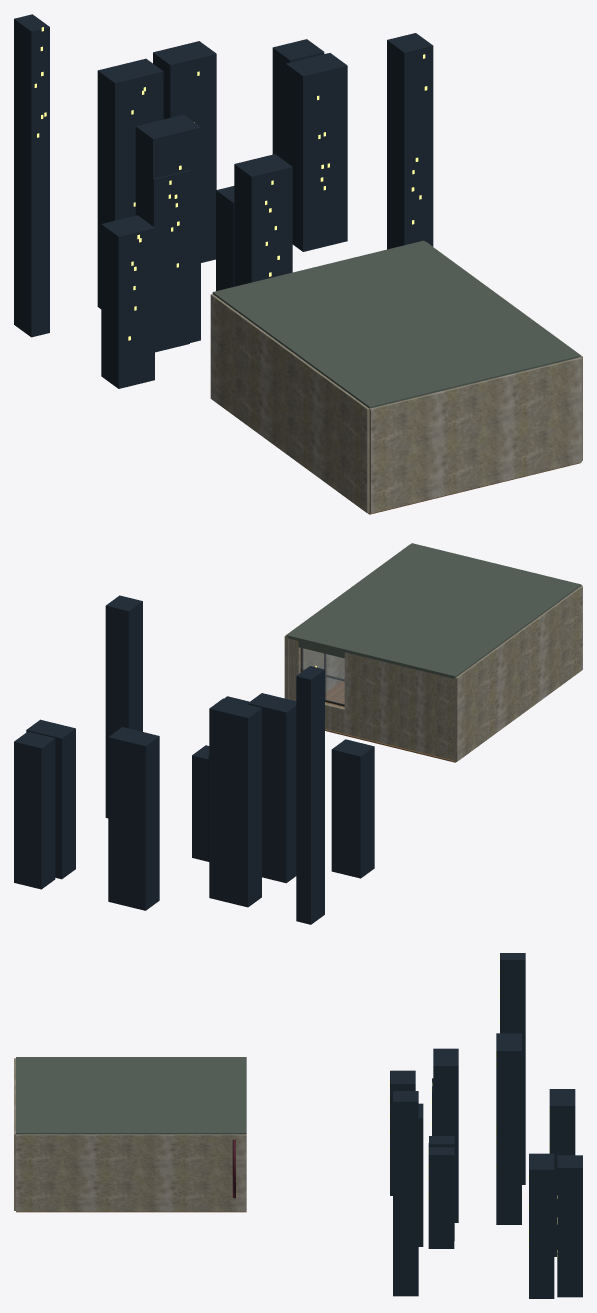
The model's file is room-architecture.glb.
The picture shows the model from 3 angles, top to bottom: view 1: azimuth 30°, elevation 25°; view 2: azimuth 150°, elevation 25°; view 3: azimuth 270°, elevation 25°; orthographic projection. The views are drawn at different scales.
Visible parts, largest first — view 1: Blender Distant blue buildings, Blender Measured plaster PBR, Blender Deep sage plaster, Blender Distant warm windows; view 2: Blender Distant blue buildings, Blender Measured plaster PBR, Blender Deep sage plaster, Blender Rain glass, Blender Measured wood floor PBR; view 3: Blender Distant blue buildings, Blender Measured plaster PBR, Blender Deep sage plaster, Blender Measured wood floor PBR.
Boxes of the visible parts, x1=… form: Blender Distant blue buildings: x1=14, y1=14, x2=433, y2=388; Blender Measured plaster PBR: x1=210, y1=242, x2=582, y2=513; Blender Deep sage plaster: x1=212, y1=240, x2=580, y2=408; Blender Distant warm windows: x1=34, y1=27, x2=427, y2=340; Blender Distant blue buildings: x1=14, y1=595, x2=374, y2=924; Blender Measured plaster PBR: x1=284, y1=544, x2=582, y2=761; Blender Deep sage plaster: x1=286, y1=543, x2=581, y2=678; Blender Rain glass: x1=302, y1=648, x2=344, y2=704; Blender Measured wood floor PBR: x1=325, y1=681, x2=456, y2=762; Blender Distant blue buildings: x1=390, y1=953, x2=582, y2=1298; Blender Measured plaster PBR: x1=14, y1=1058, x2=246, y2=1211; Blender Deep sage plaster: x1=16, y1=1057, x2=246, y2=1134; Blender Measured wood floor PBR: x1=16, y1=1211, x2=246, y2=1212.
Bounding box in the file's own units: 11.13 × 9.74 × 22.19.
10 materials, 3 textured.
